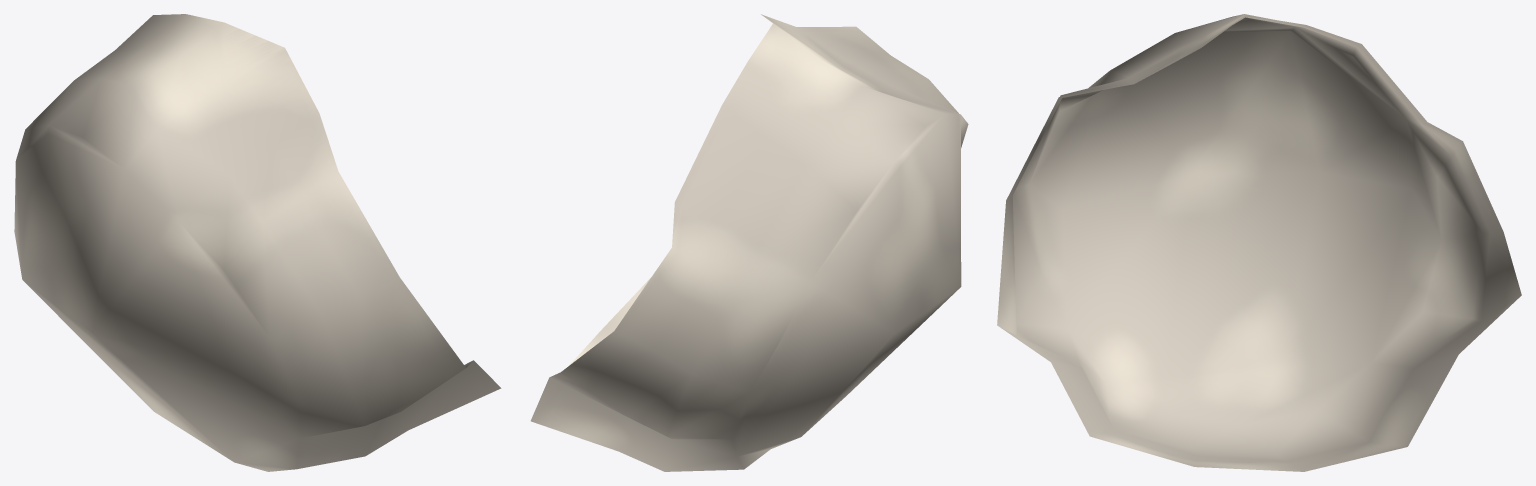
Rendered from egg_debris_large.glb.
The picture shows the model from 3 angles, left to right: view 1: azimuth 30°, elevation 25°; view 2: azimuth 150°, elevation 25°; view 3: azimuth 270°, elevation 25°; orthographic projection. The views are drawn at different scales.
Visible parts, largest first — view 1: SpiderSpawner2-con.001; view 2: SpiderSpawner2-con.001; view 3: SpiderSpawner2-con.001.
Boxes of the visible parts, left/top/right/bottom form: SpiderSpawner2-con.001: left=14, top=14, right=501, bottom=471; SpiderSpawner2-con.001: left=530, top=14, right=968, bottom=471; SpiderSpawner2-con.001: left=997, top=14, right=1521, bottom=471.
Bounding box in the file's own units: 1.34 × 1.52 × 1.77.
1 material, 1 textured.
